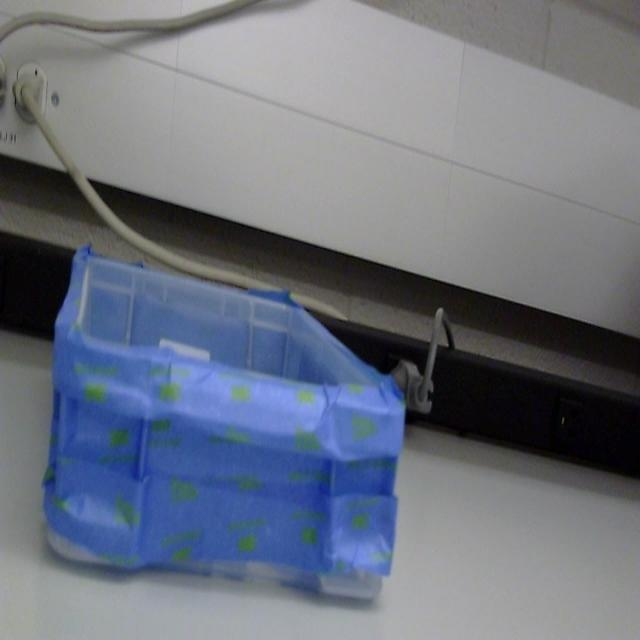bucket: (42, 247, 406, 608)
